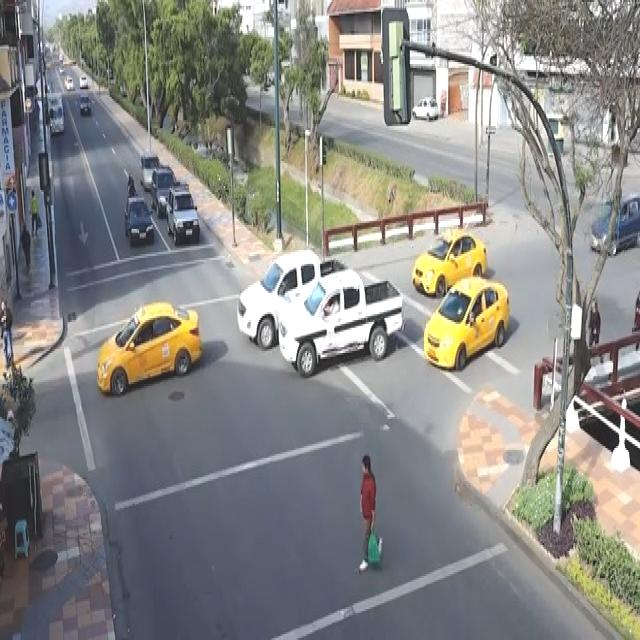CMT: (284, 281, 406, 371), (235, 257, 355, 341)
